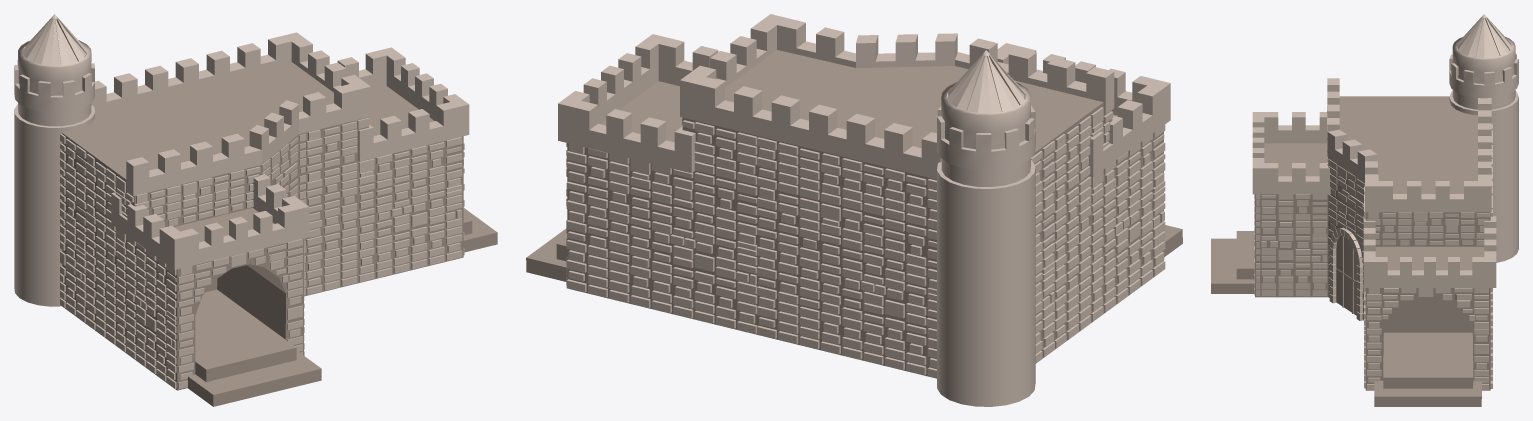
The model's file is castlevirginiaf.fbx.
3 views of the same model, side by side, from view 1: azimuth 30°, elevation 25°; view 2: azimuth 150°, elevation 25°; view 3: azimuth 270°, elevation 25° (orthographic). The views are drawn at different scales.
Parts seen in each view (by area): view 1: Castle:castle_building, Castle:wall_stones, Castle:roof_borders, Castle:tower; view 2: Castle:wall_stones, Castle:castle_building, Castle:roof_borders, Castle:tower; view 3: Castle:castle_building, Castle:roof_borders, Castle:wall_stones, Castle:tower, Castle:door_border, Castle:door.
Part boxes in pixels (x1,y1,x2,y2): Castle:castle_building: (62,61,497,406); Castle:wall_stones: (60,118,464,388); Castle:roof_borders: (91,32,469,269); Castle:tower: (14,14,94,306); Castle:wall_stones: (566,107,1165,378); Castle:castle_building: (526,50,1182,378); Castle:roof_borders: (558,14,1170,179); Castle:tower: (937,50,1035,406); Castle:castle_building: (1211,96,1490,406); Castle:roof_borders: (1252,78,1496,287); Castle:wall_stones: (1254,106,1492,389); Castle:tower: (1449,14,1518,262); Castle:door_border: (1329,227,1363,320); Castle:door: (1336,236,1356,313).
Size of the model in its own units: 53.86 by 34.33 by 40.64.
